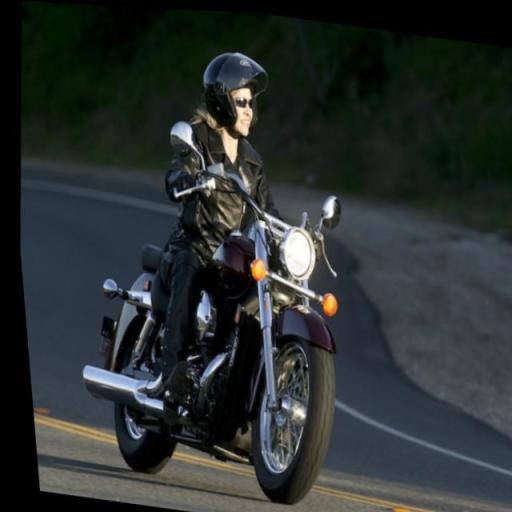Helmet: (184, 34, 282, 165)
Motor: (57, 160, 371, 505)
